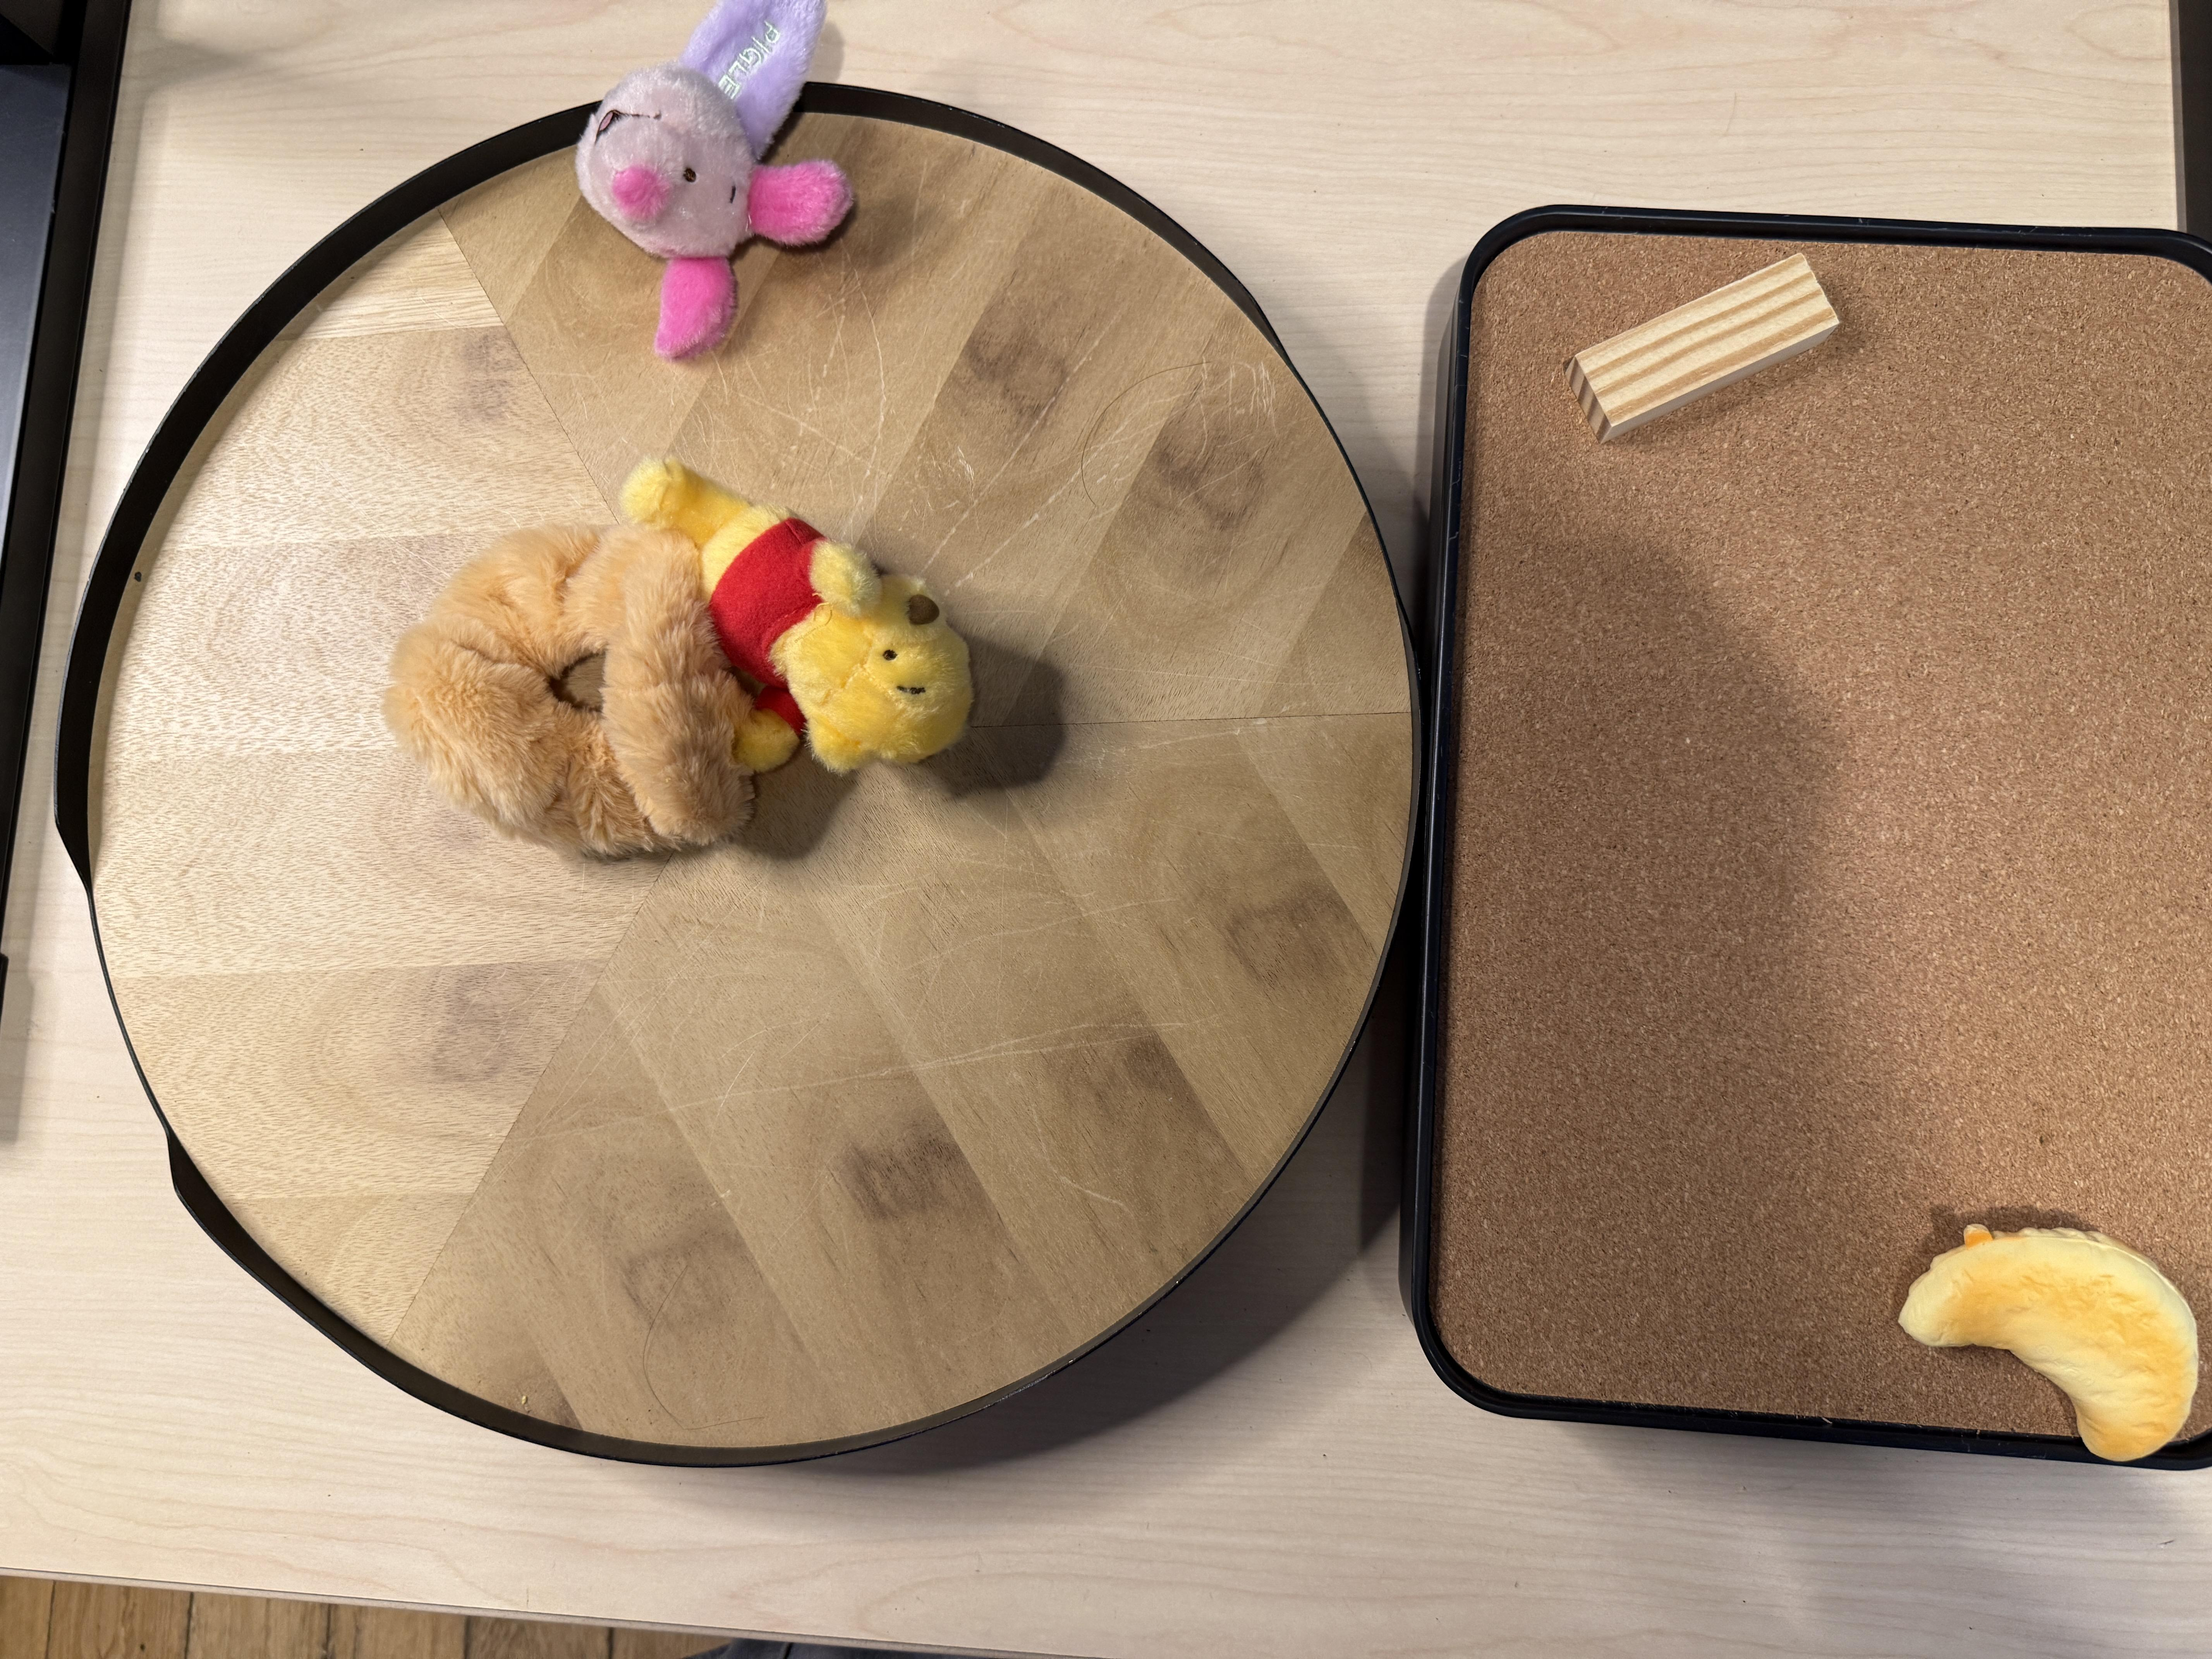block: (1575, 249, 1843, 434)
bread: (1904, 1223, 2202, 1467)
doll: (395, 451, 979, 861), (578, 0, 855, 364)
